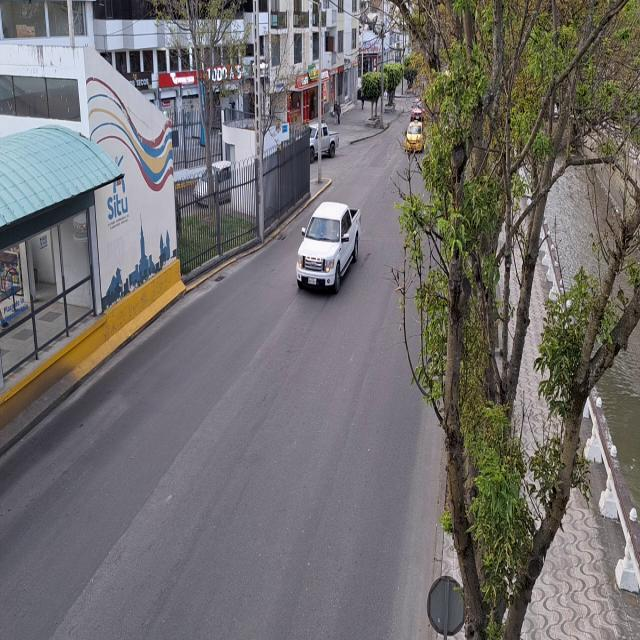CMT: (299, 201, 360, 292)
